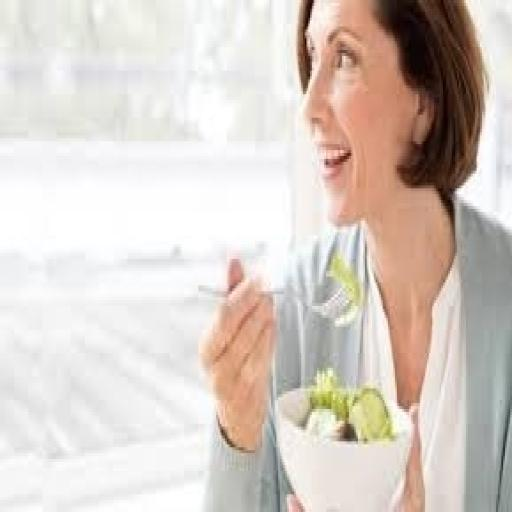eating: (197, 0, 510, 509)
